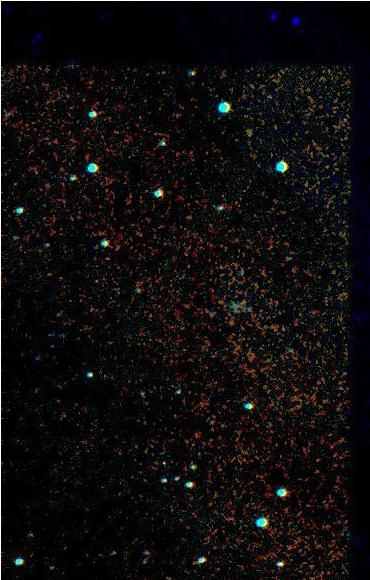star: (148, 448, 178, 478)
